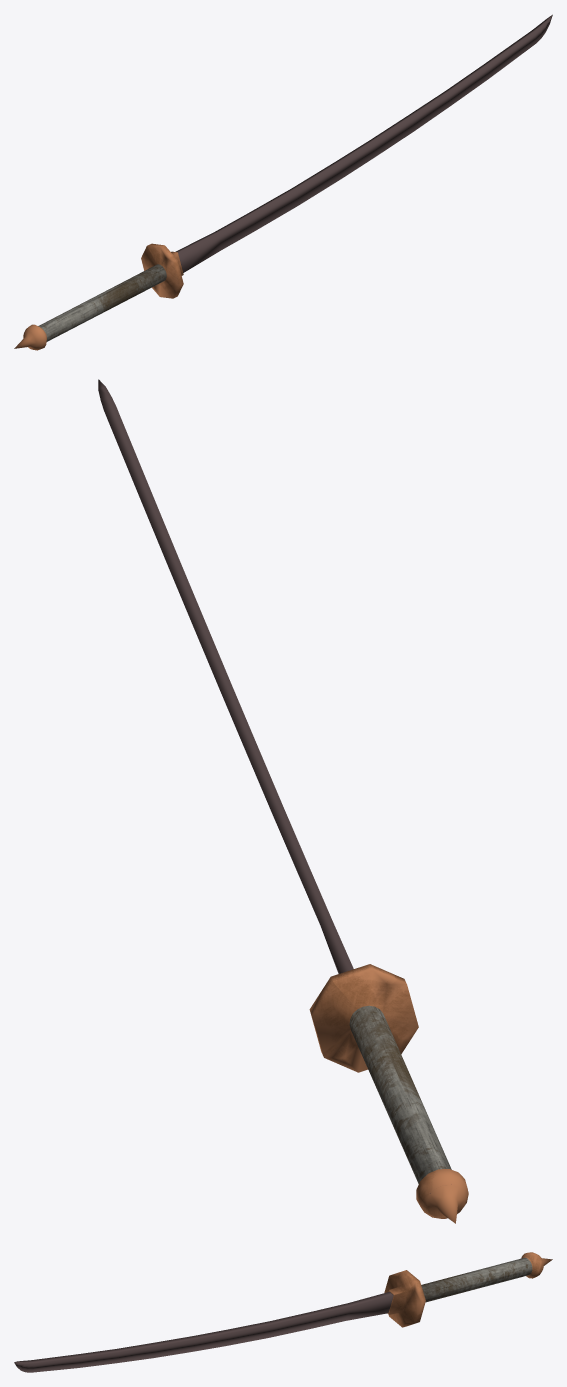
File: Anim_idle_katana_objetos.0033.obj
3 renders of one model, top to bottom at view 1: azimuth 90°, elevation 25°; view 2: azimuth 150°, elevation 25°; view 3: azimuth 270°, elevation 25°, orthographic. The views are drawn at different scales.
Visible parts, largest first — view 1: Katana1; view 2: Katana1; view 3: Katana1.
Boxes of the visible parts, x1,y1,x2,y2 form: Katana1: (14, 14, 552, 350); Katana1: (98, 379, 468, 1223); Katana1: (14, 1252, 552, 1372).
Bounding box in the file's own units: 3.66 × 0.9728 × 3.81.
